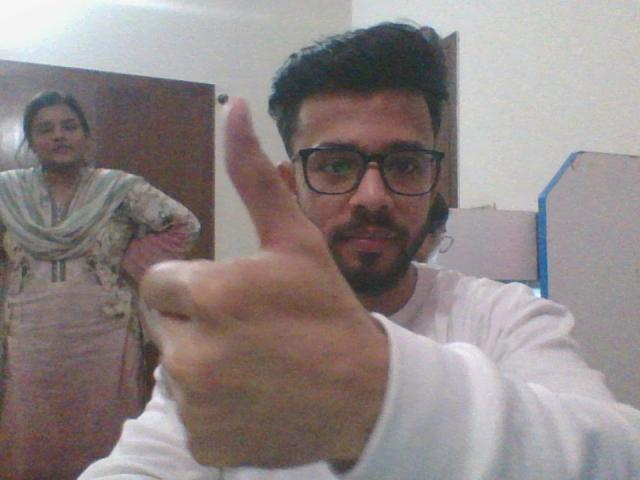thumbs-up: (119, 89, 356, 467)
